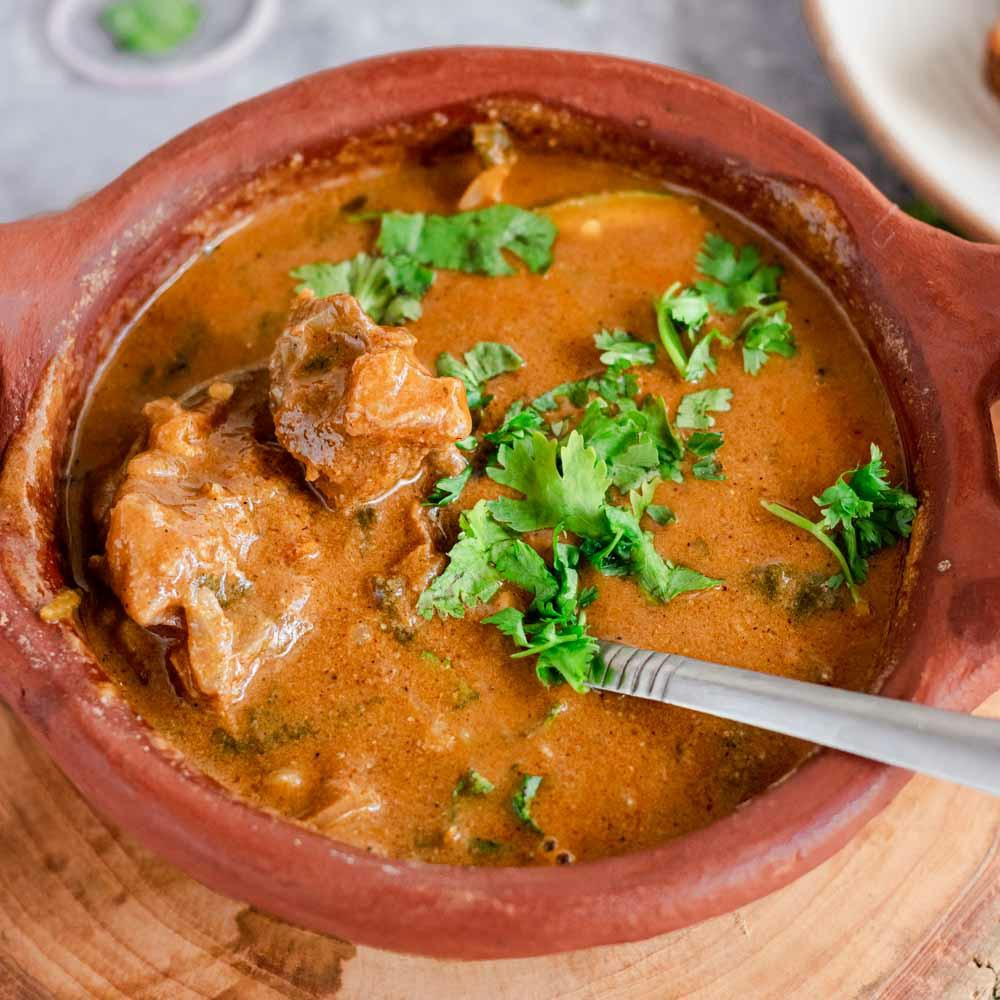MuttonCurry: (65, 145, 922, 869)
